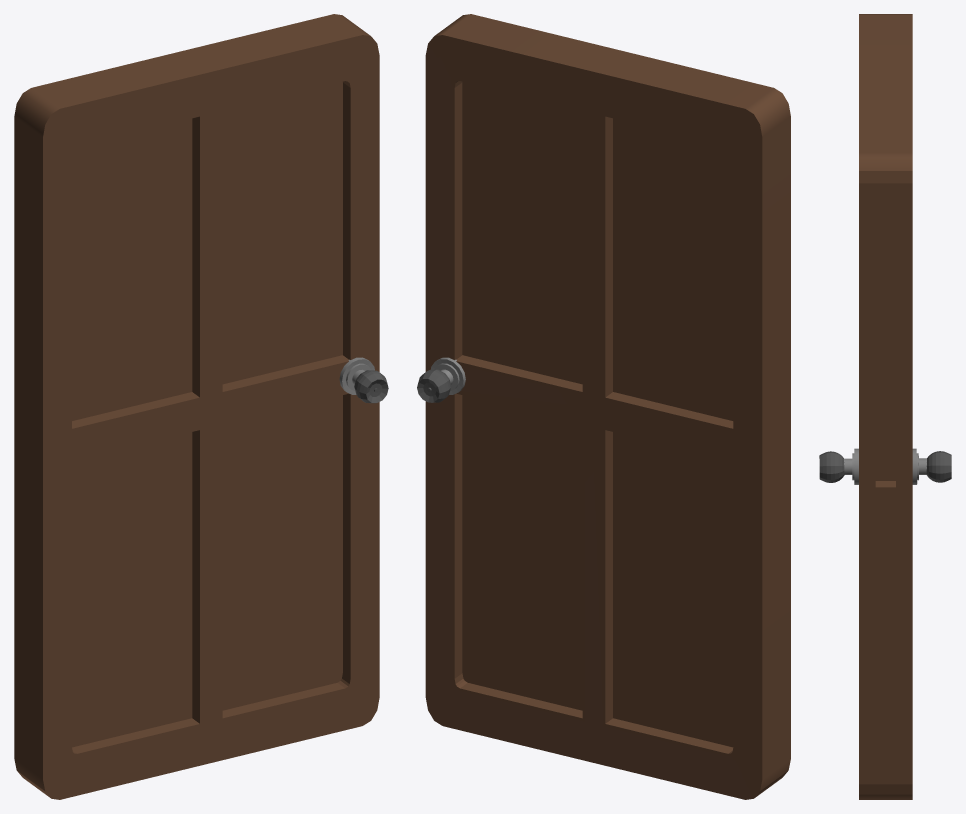
The model's file is wooden_door.fbx.
The picture shows the model from 3 angles, left to right: view 1: azimuth 30°, elevation 25°; view 2: azimuth 150°, elevation 25°; view 3: azimuth 270°, elevation 25°; orthographic projection. The views are drawn at different scales.
Parts seen in each view (by area): view 1: pSphere4; view 2: pSphere4; view 3: pSphere4.
Boxes of the visible parts, x1,y1,x2,y2 form: pSphere4: (14,14,388,799); pSphere4: (417,14,790,799); pSphere4: (819,14,951,799).
Size of the model in its own units: 5.58 by 10.94 by 2.03.
